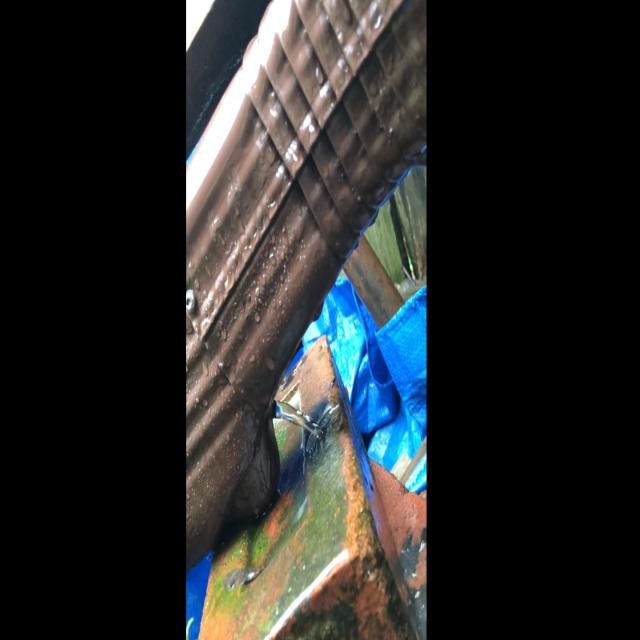leak: (274, 402, 320, 436)
